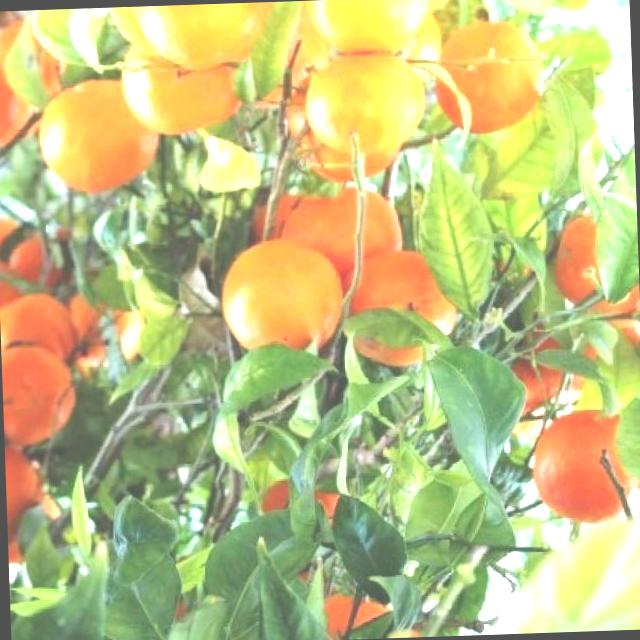Orange: (201, 238, 352, 394), (320, 234, 472, 384), (26, 70, 162, 206), (258, 184, 418, 298), (520, 399, 640, 539), (288, 48, 432, 164), (428, 12, 550, 141), (109, 37, 252, 144), (235, 464, 370, 571), (538, 205, 638, 322), (126, 6, 270, 79), (55, 280, 154, 383), (296, 0, 435, 68), (0, 338, 86, 445), (3, 228, 80, 304)
